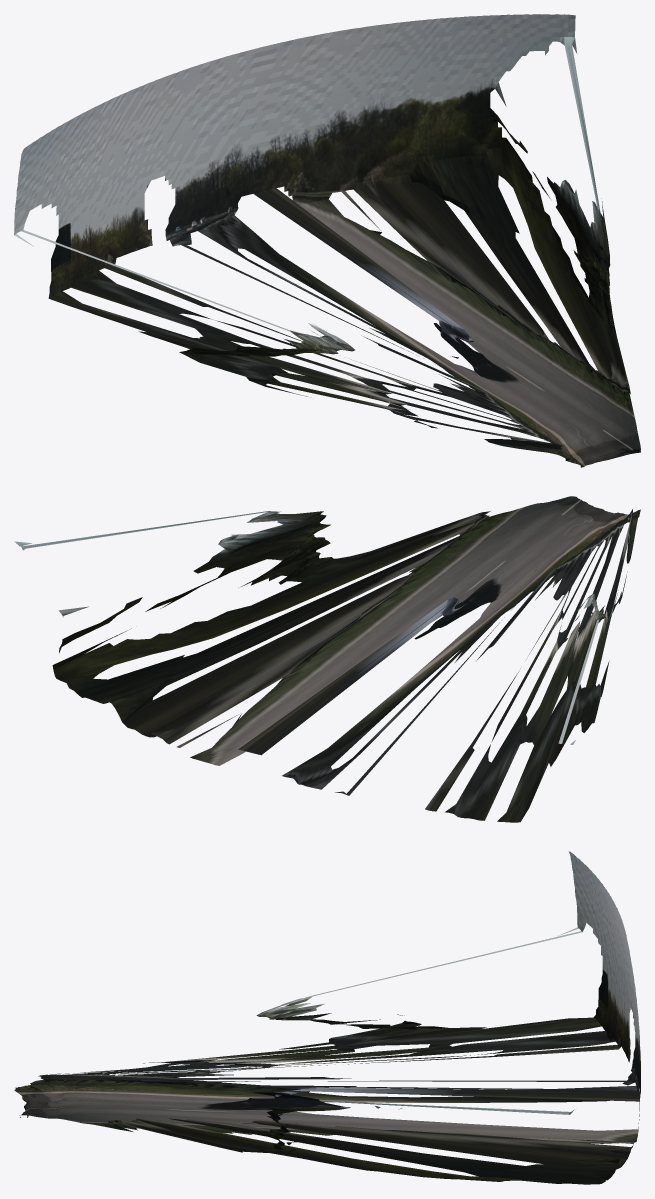
3 views of the same model, one above another, from view 1: azimuth 30°, elevation 25°; view 2: azimuth 150°, elevation 25°; view 3: azimuth 270°, elevation 25° (orthographic). The views are drawn at different scales.
Parts seen in each view (by area): view 1: defaultobject; view 2: defaultobject; view 3: defaultobject.
Part boxes in pixels (box(x1,y1,x2,y2)): defaultobject: box(14, 14, 640, 467); defaultobject: box(14, 496, 640, 822); defaultobject: box(14, 851, 640, 1184).
Bounding box in the file's own units: 40.92 × 12.88 × 44.92.
1 material, 1 textured.
